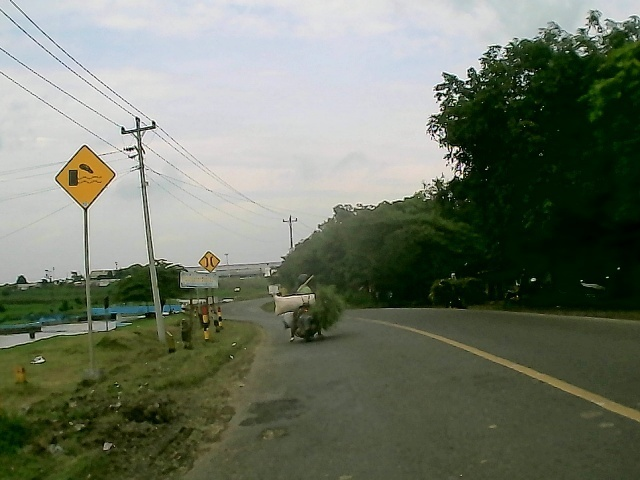Jembatan: (197, 251, 221, 271)
Peringatan tepi air: (51, 142, 119, 211)
